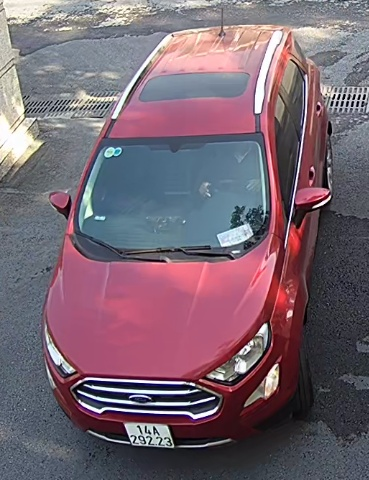vehicle plate: (121, 410, 180, 451)
